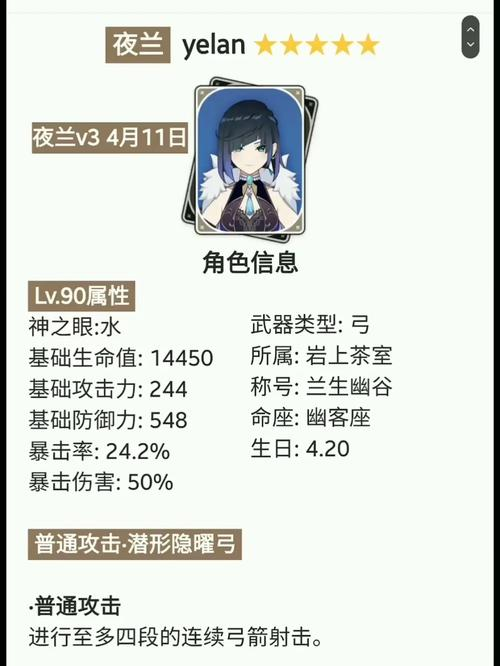夜兰: (196, 94, 297, 231)
